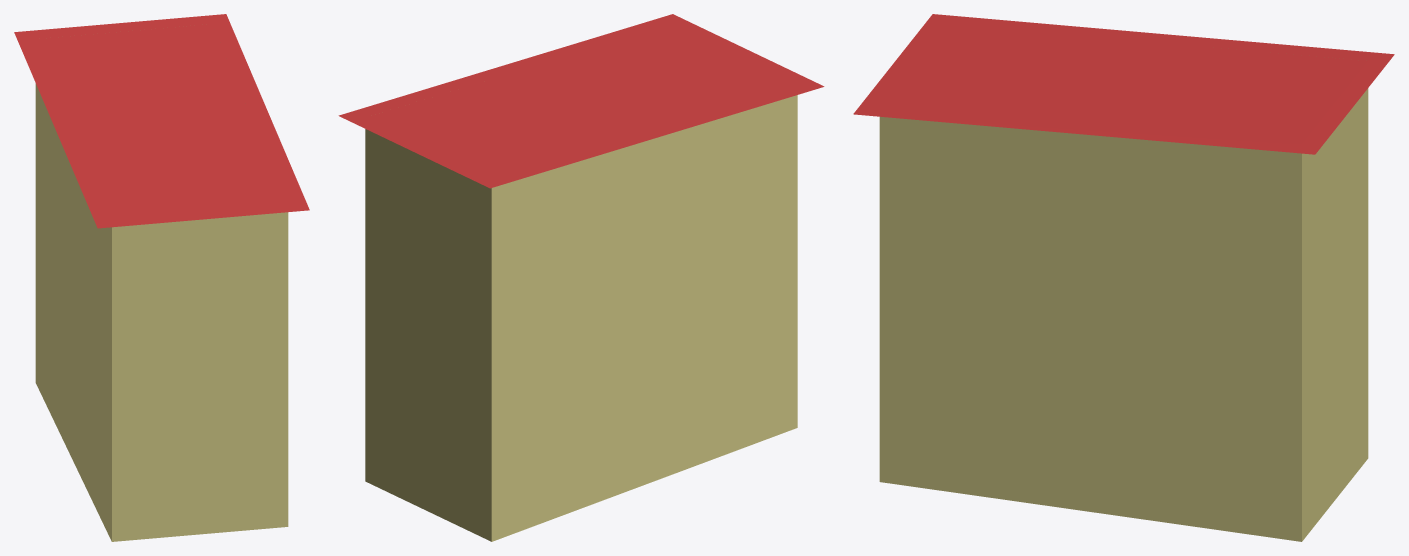
3 renders of one model, left to right at view 1: azimuth 30°, elevation 25°; view 2: azimuth 150°, elevation 25°; view 3: azimuth 270°, elevation 25°, orthographic. The views are drawn at different scales.
Size of the model in its own units: 4.66 by 6.44 by 5.22.
